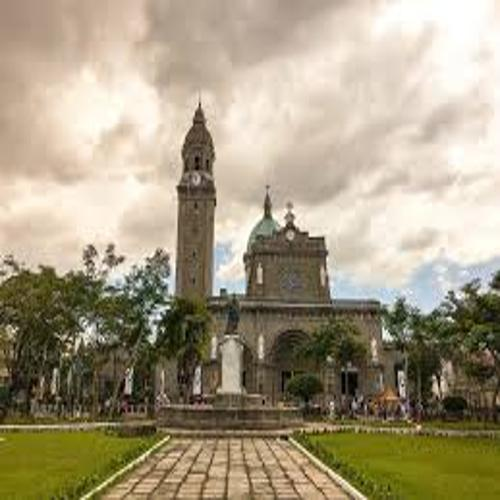Manila Cathedral Church: (121, 76, 415, 445)
